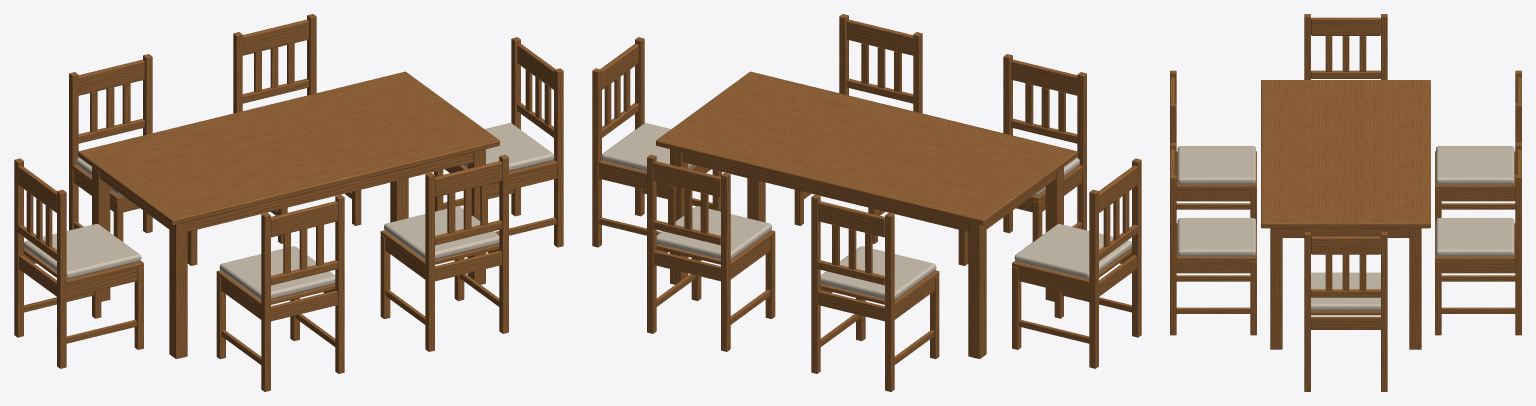
Rendered from dining-set.glb.
3 renders of one model, left to right at view 1: azimuth 30°, elevation 25°; view 2: azimuth 150°, elevation 25°; view 3: azimuth 270°, elevation 25°, orthographic. The views are drawn at different scales.
Parts seen in each view (by area): view 1: Wood, Fabric; view 2: Wood, Fabric; view 3: Wood, Fabric.
Boxes of the visible parts, left/top/right/bottom form: Wood: left=14, top=14, right=563, bottom=391; Fabric: left=24, top=123, right=554, bottom=299; Wood: left=592, top=14, right=1141, bottom=391; Fabric: left=601, top=123, right=1131, bottom=299; Wood: left=1170, top=14, right=1521, bottom=391; Fabric: left=1177, top=146, right=1514, bottom=310.
Bounding box in the file's own units: 2.76 × 0.92 × 1.86.
Materials: 2 (1 with a texture image).
